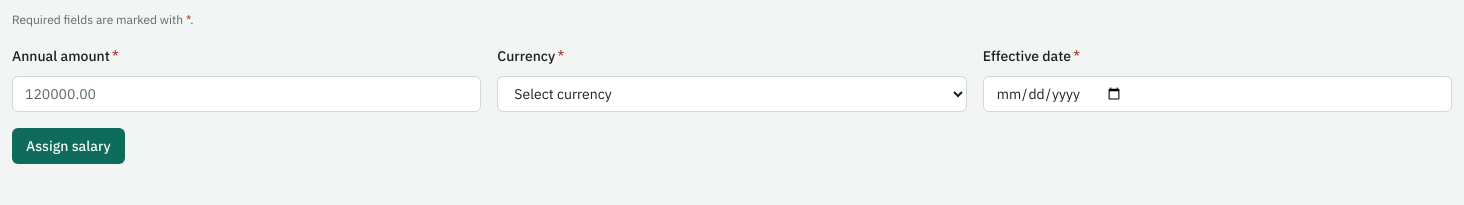
Test: SalaryForm › rejects assignment submit without a currency
Type "90000.00" into the field labelled "Annual amount".
click(247, 94); type("90000.00")  # box [12,76,481,112]
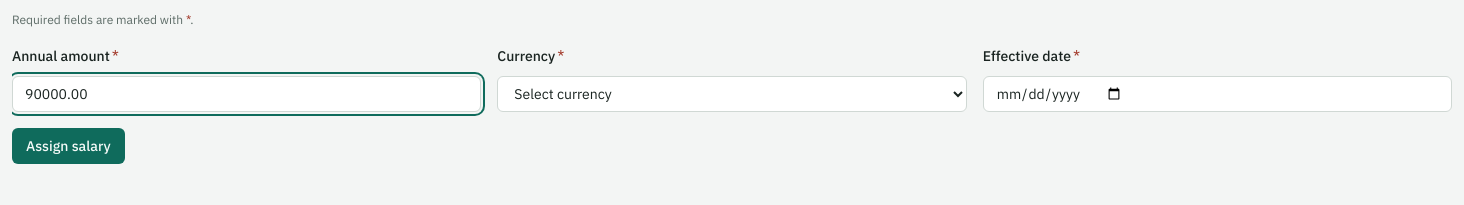
Type "2024-03-01" into the date field labelled "Effective date".
click(1217, 94); type("2024-03-01")  # box [983,76,1452,112]
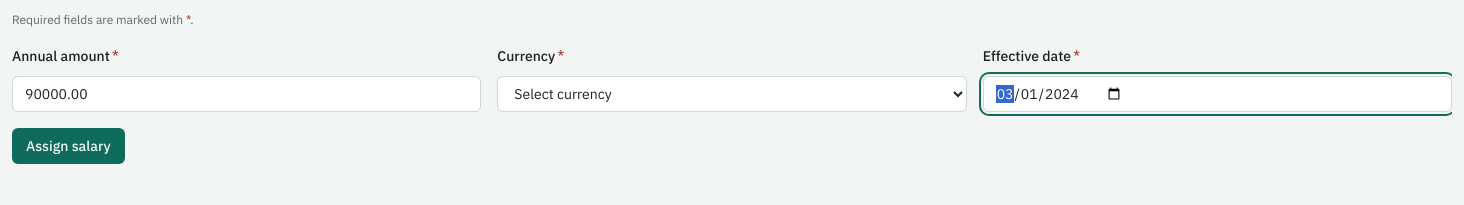
Click the button "Assign salary".
click(68, 146)  # box [12,128,125,164]
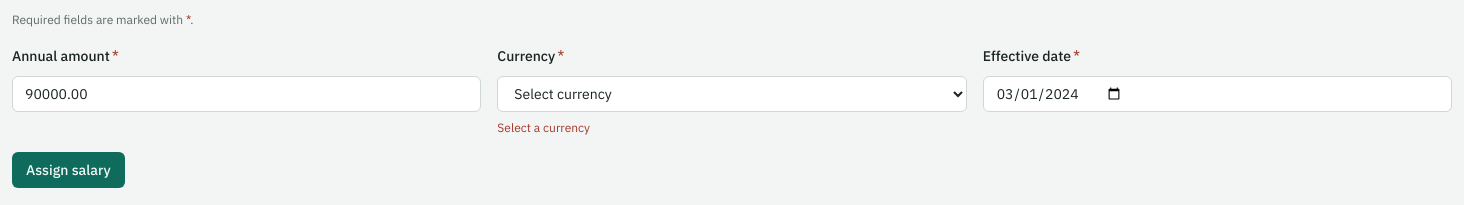
Result: the text "Select a currency" is shown at [497,120,590,135]
